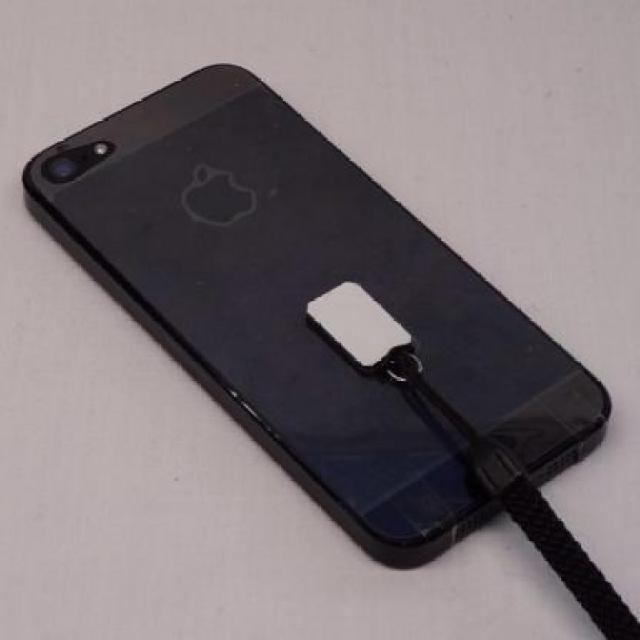phone: (12, 53, 621, 579)
